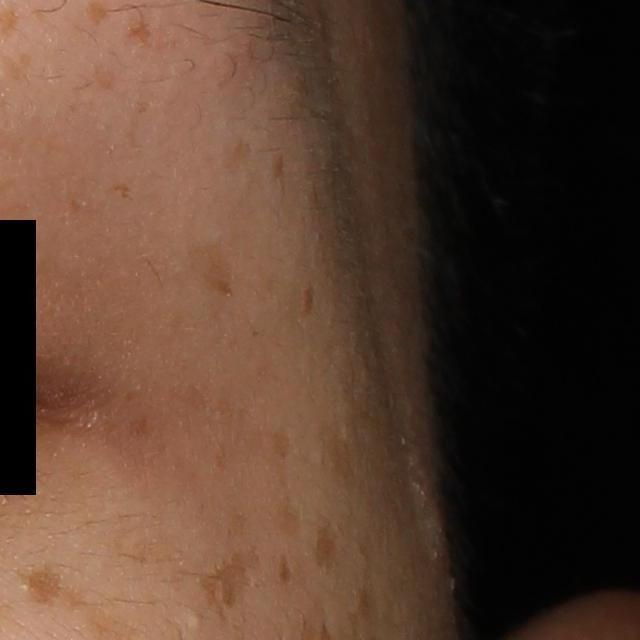comedo: (183, 609, 203, 632)
melasma: (186, 229, 245, 305), (10, 565, 71, 605)
